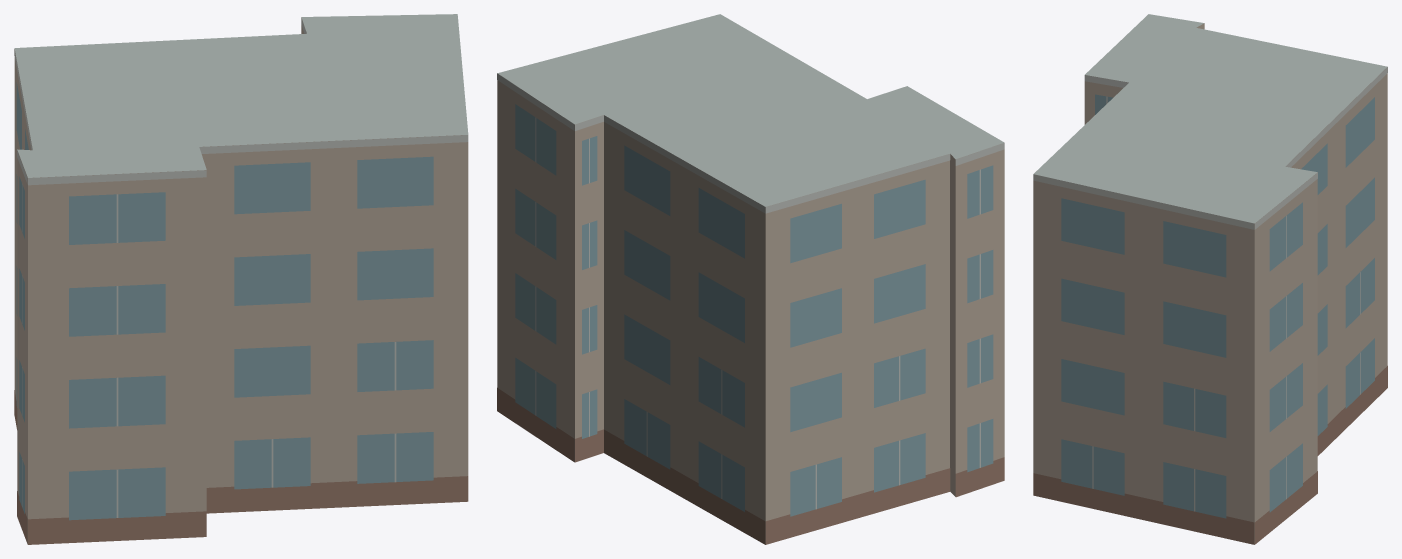
Rendered from survey-upis-32527061.glb.
3 renders of one model, left to right at view 1: azimuth 30°, elevation 25°; view 2: azimuth 150°, elevation 25°; view 3: azimuth 270°, elevation 25°, orthographic. The views are drawn at different scales.
Visible parts, largest first — view 1: survey-upis-32527061.tmp; view 2: survey-upis-32527061.tmp; view 3: survey-upis-32527061.tmp.
Part boxes in pixels (x1=…): survey-upis-32527061.tmp: x1=14, y1=14, x2=468, y2=544; survey-upis-32527061.tmp: x1=497, y1=14, x2=1004, y2=544; survey-upis-32527061.tmp: x1=1033, y1=14, x2=1387, y2=544.
Size of the model in its own units: 17.14 by 12.25 by 12.26.
